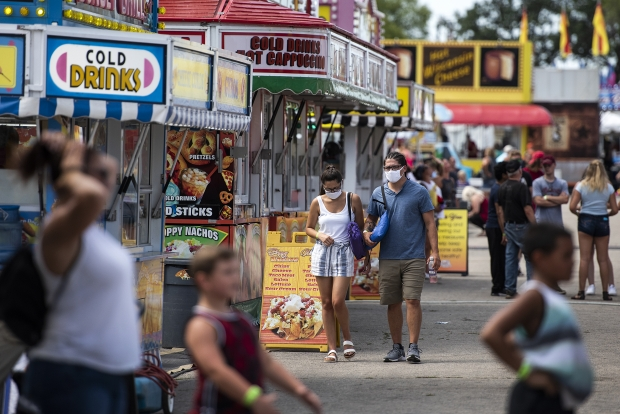person: (10, 131, 145, 414), (182, 242, 331, 414), (479, 226, 599, 414), (364, 153, 442, 368), (302, 163, 372, 368), (570, 160, 620, 301), (497, 160, 539, 301), (482, 159, 505, 299), (530, 156, 570, 230)
